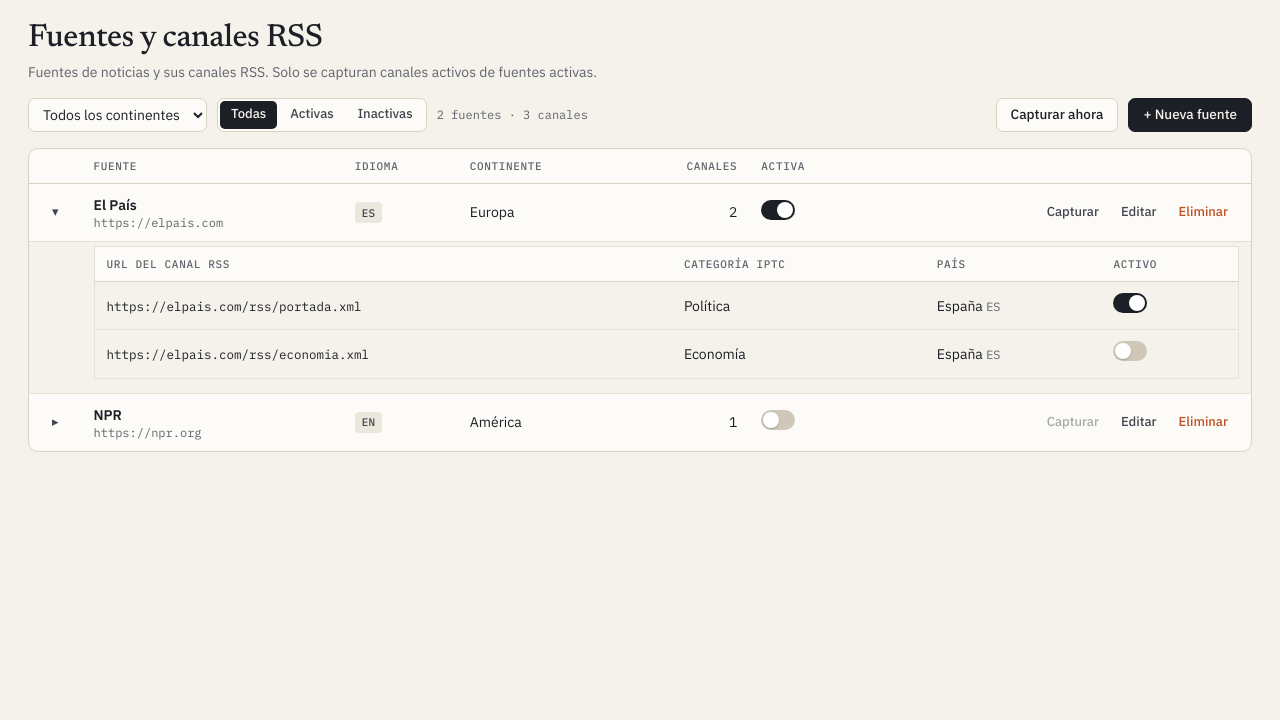
Test: SourcesPage › toggles feed switch with patchSource and shows Canal activado/desactivado toast
This screenshot has width=1280, height=720.
Expected: the text "https://elpais.com/rss/portada.xml" is shown, [94,282,672,330]
Click the switch named "Activar canal" in the row of "https://elpais.com/rss/portada.xml" at (1130, 303), box [1113,293,1147,313]
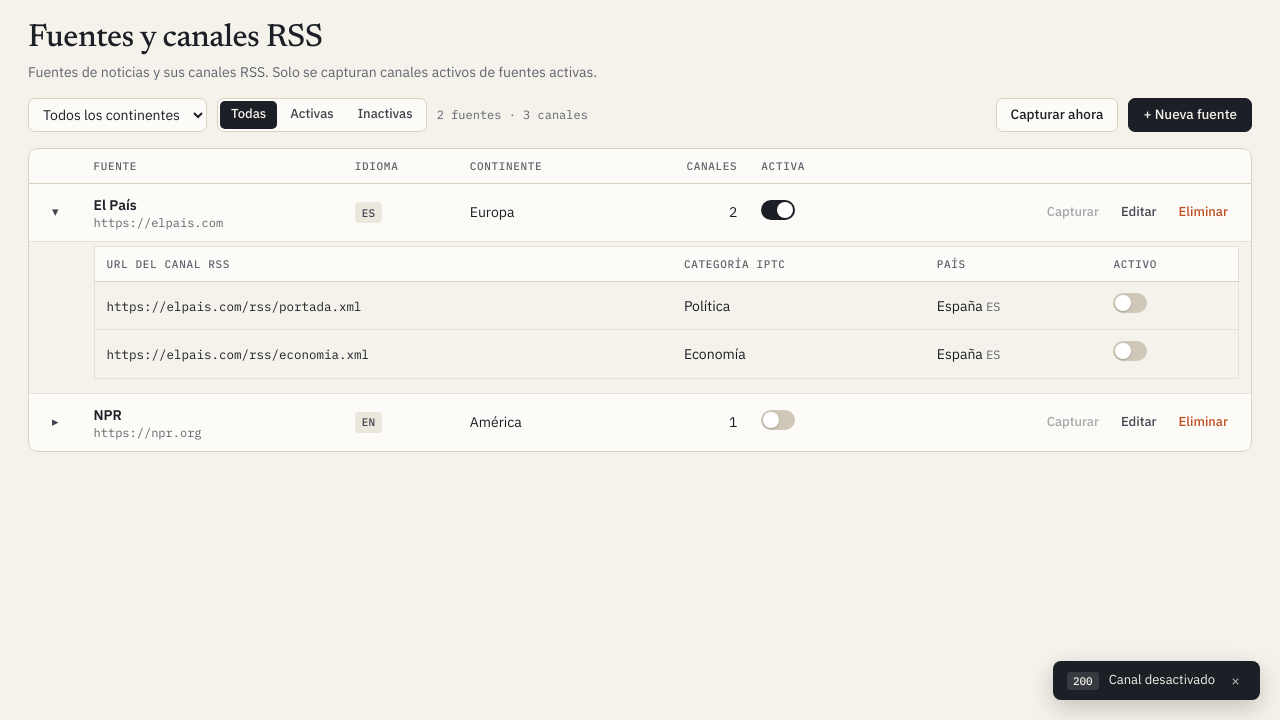
Now the text "Canal desactivado" is shown, box [1109,671,1215,690]
